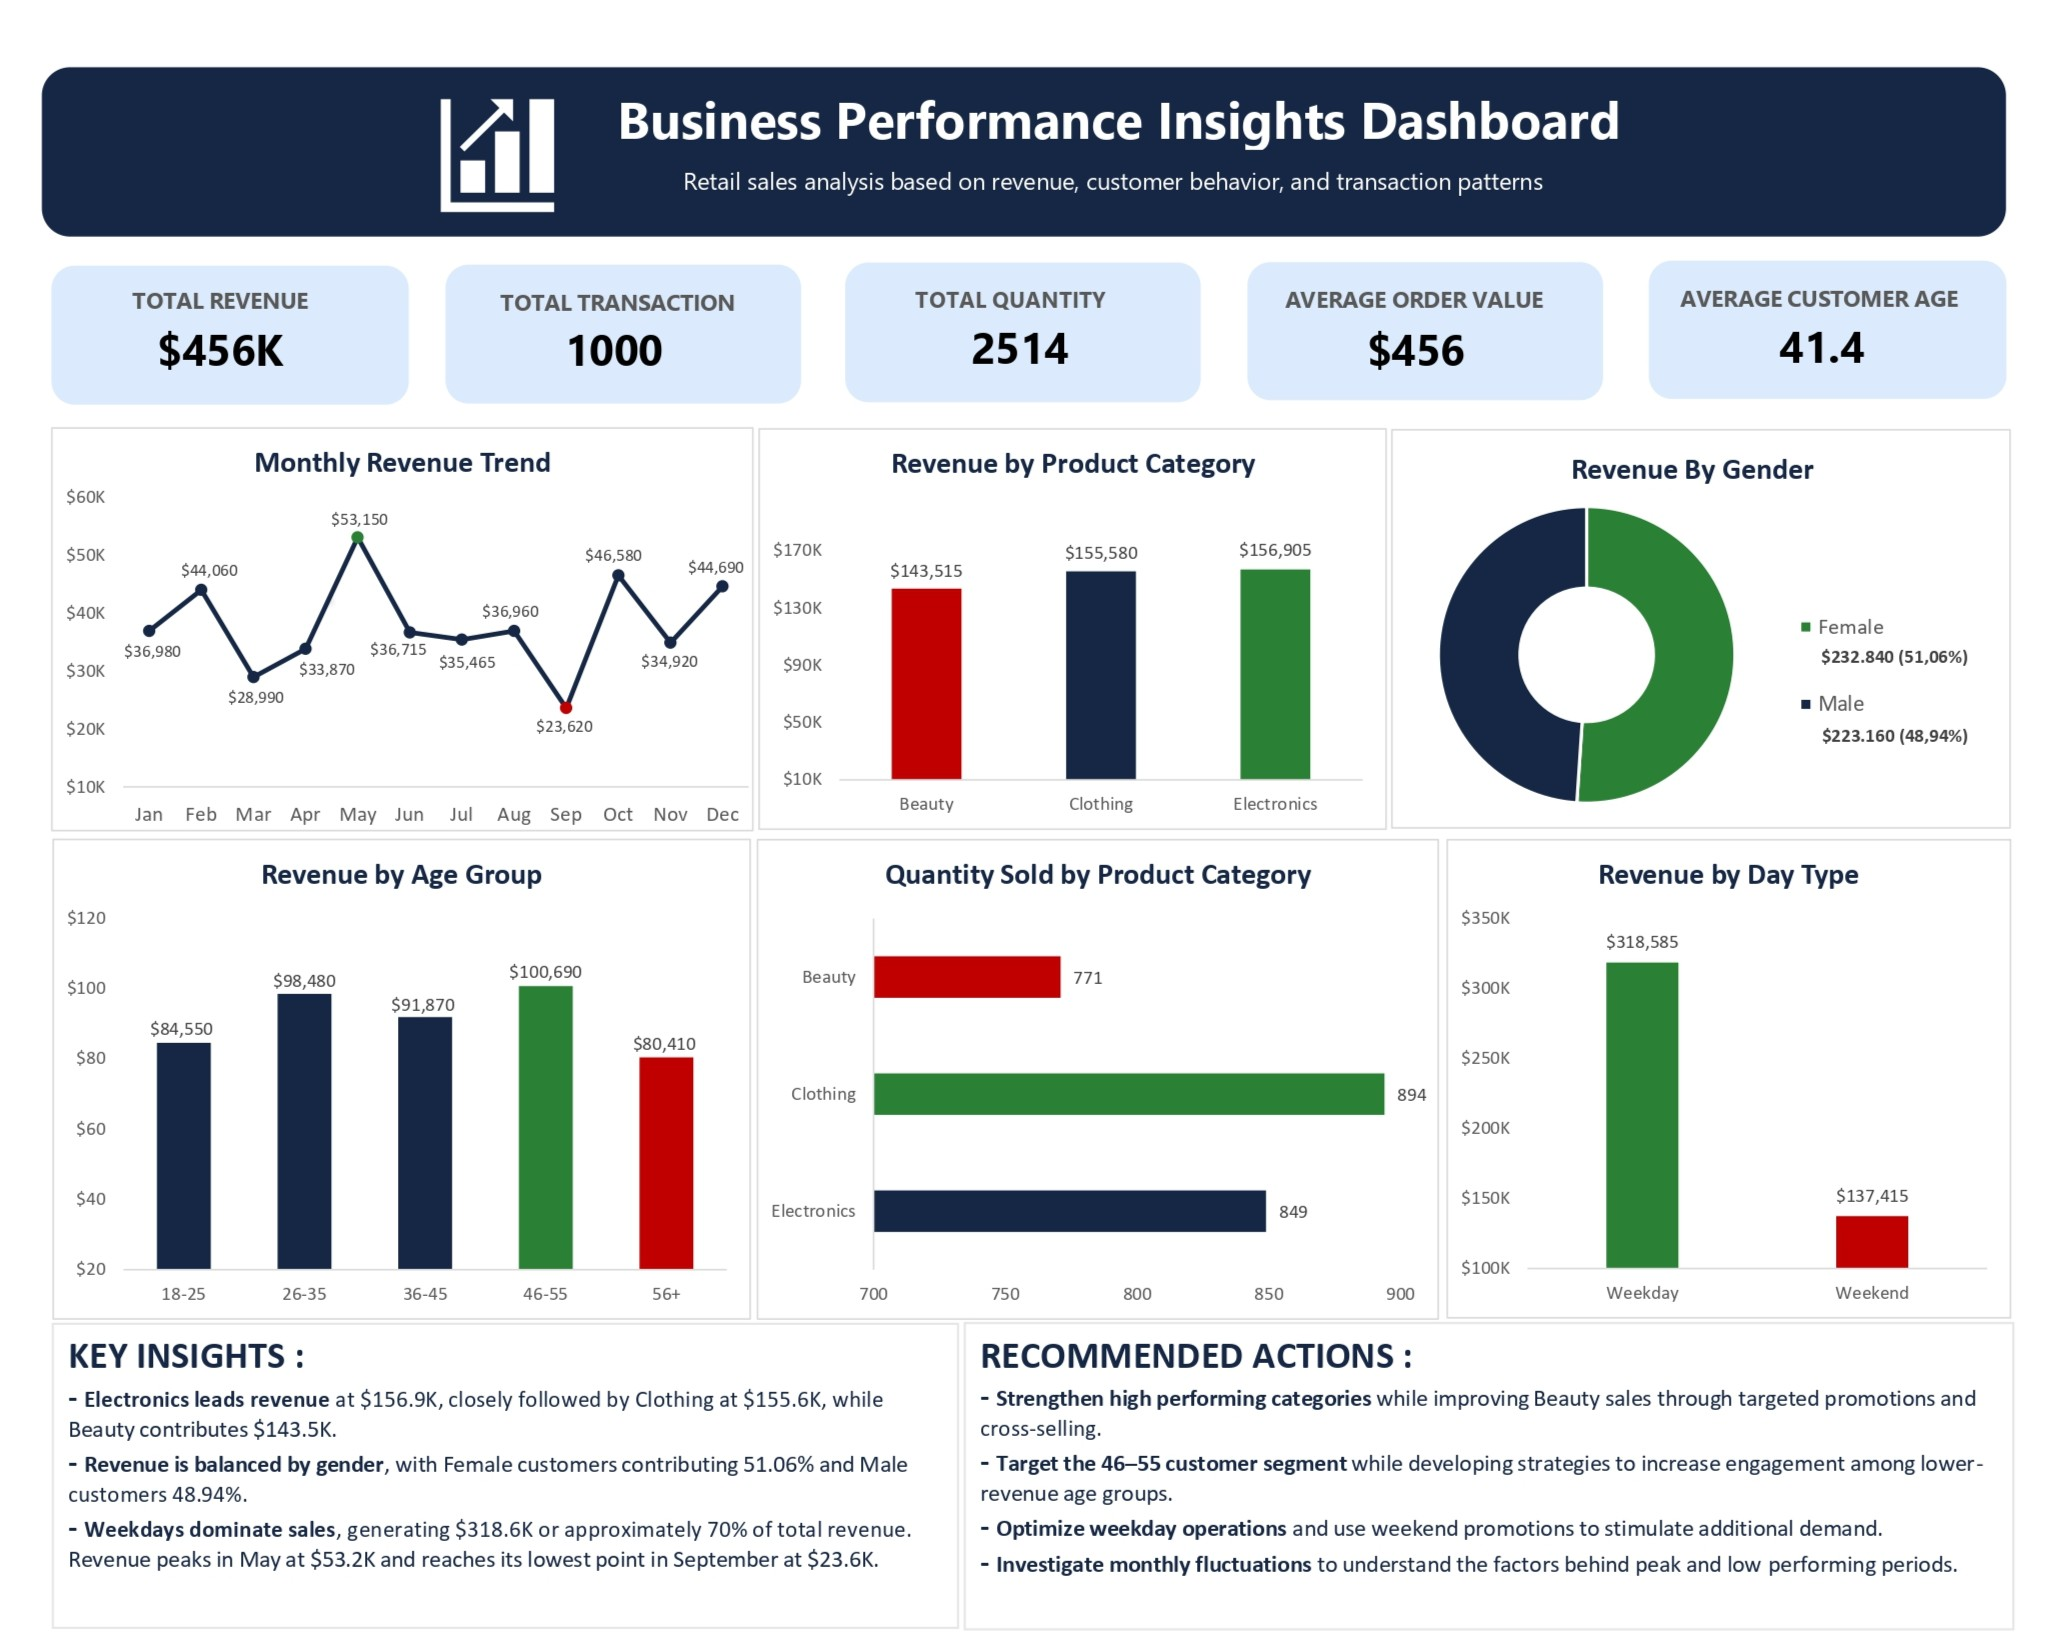

What the dashboard file says about the page in this screenshot:
{"tool":"powerbi","page":{"name":"Page 1","canvas":[1920,1080],"ordinal":0},"visuals":[{"type":"shape","box":[16,18,1884,164],"z":0},{"type":"cardVisual","title":"Total Revenue","fields":{"Data":["cleaned.Average Customer Age"]},"box":[1542,200,358,140],"z":1000},{"type":"cardVisual","title":"Total Revenue","fields":{"Data":["cleaned.Total Revenue"]},"box":[17.6,199.2,362,140],"z":2000},{"type":"cardVisual","title":"Total Revenue","fields":{"Data":["cleaned.Total Quantity Card"]},"box":[779.6,199.2,362,140],"z":3000},{"type":"cardVisual","title":"Total Revenue","fields":{"Data":["cleaned.Average Order Value"]},"box":[1157.6,199.2,362,140],"z":4000},{"type":"cardVisual","title":"Total Revenue","fields":{"Data":["cleaned.Total Transactions"]},"box":[398.9,199.6,362,140],"z":5000},{"type":"image","box":[18,34,188,130],"z":6000},{"type":"lineChart","title":"Monthly Revenue Trend","fields":{"Category":["cleaned.month2"],"Y":["cleaned.Total Revenue"]},"box":[16.7,366.7,651.7,328.3],"z":7000},{"type":"clusteredColumnChart","title":"Revenue by Product Category","fields":{"Category":["cleaned.product_category"],"Y":["cleaned.Total Revenue"]},"box":[686.7,365,650,330],"z":8000},{"type":"donutChart","title":"Revenue By Gender","fields":{"Category":["cleaned.gender"],"Y":["cleaned.Total Revenue"]},"box":[1358.3,366.7,541.7,328.3],"z":9000},{"type":"clusteredColumnChart","title":"Revenue by Age Group","fields":{"Category":["cleaned.age_group"],"Y":["cleaned.Total Revenue"]},"box":[18.3,720,651.7,328.3],"z":10000},{"type":"barChart","title":"Quantity Sold by Product Category","fields":{"Category":["cleaned.product_category"],"Y":["cleaned.Total Quantity"]},"box":[687,720,650,328],"z":11000},{"type":"columnChart","title":"Revenue by Day Type","fields":{"Category":["cleaned.day_type"],"Y":["cleaned.Total Revenue"]},"box":[1358,720,542,328],"z":12000},{"type":"slicer","fields":{"Values":["cleaned.product_category"]},"box":[1336,50,250,104],"z":13000},{"type":"slicer","fields":{"Values":["cleaned.age_group"]},"box":[1602,48,246,104],"z":14000},{"type":"textbox","box":[170,64,1092,74],"z":15000}]}

Visuals, with their boxes on the page's 1920x1080 design canvas (x1, y1, x2, y2). These are canvas units, not pixel positions in the 2058x1647 screenshot, which may show the page scaled, cropped or inside an application window:
shape: region(16, 18, 1900, 182)
"Total Revenue" cardVisual: region(1542, 200, 1900, 340)
"Total Revenue" cardVisual: region(18, 199, 380, 339)
"Total Revenue" cardVisual: region(780, 199, 1142, 339)
"Total Revenue" cardVisual: region(1158, 199, 1520, 339)
"Total Revenue" cardVisual: region(399, 200, 761, 340)
image: region(18, 34, 206, 164)
"Monthly Revenue Trend" lineChart: region(17, 367, 668, 695)
"Revenue by Product Category" clusteredColumnChart: region(687, 365, 1337, 695)
"Revenue By Gender" donutChart: region(1358, 367, 1900, 695)
"Revenue by Age Group" clusteredColumnChart: region(18, 720, 670, 1048)
"Quantity Sold by Product Category" barChart: region(687, 720, 1337, 1048)
"Revenue by Day Type" columnChart: region(1358, 720, 1900, 1048)
slicer - cleaned.product_category: region(1336, 50, 1586, 154)
slicer - cleaned.age_group: region(1602, 48, 1848, 152)
textbox: region(170, 64, 1262, 138)
